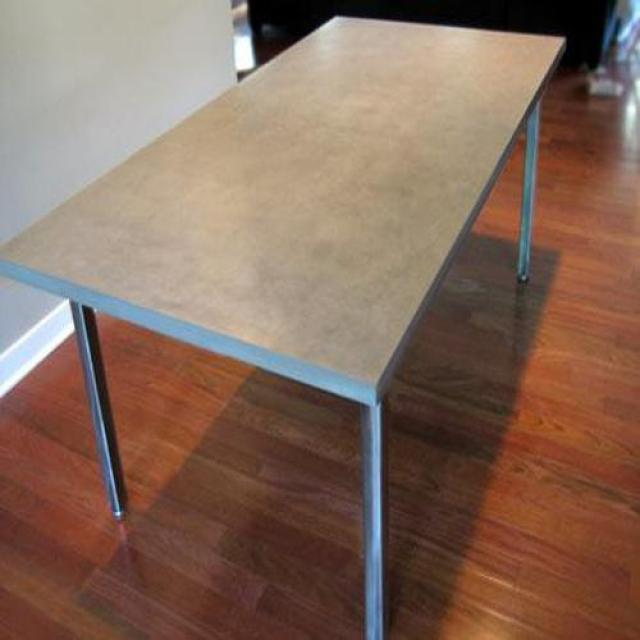table: (0, 17, 570, 640)
